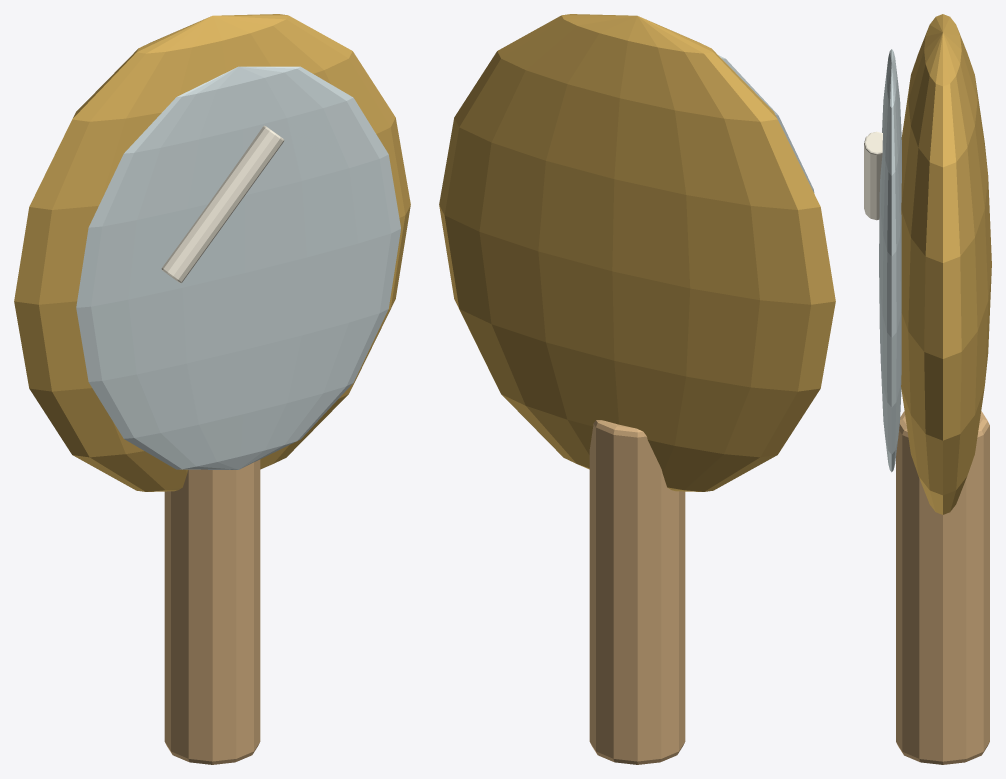
Rendered from P005_hand_mirror.glb.
The picture shows the model from 3 angles, left to right: view 1: azimuth 30°, elevation 25°; view 2: azimuth 150°, elevation 25°; view 3: azimuth 270°, elevation 25°; orthographic projection. The views are drawn at different scales.
Visible parts, largest first — view 1: P005_silver_face_003, P005_mirror_frame_002, P005_handle_001, P005_glint_004; view 2: P005_mirror_frame_002, P005_handle_001; view 3: P005_mirror_frame_002, P005_handle_001, P005_silver_face_003, P005_glint_004.
Boxes of the visible parts, left/top/right/bottom form: P005_silver_face_003: left=76, top=66, right=400, bottom=469; P005_mirror_frame_002: left=14, top=14, right=410, bottom=491; P005_handle_001: left=164, top=459, right=260, bottom=764; P005_glint_004: left=161, top=125, right=284, bottom=282; P005_mirror_frame_002: left=439, top=14, right=835, bottom=491; P005_handle_001: left=589, top=420, right=685, bottom=764; P005_mirror_frame_002: left=901, top=14, right=991, bottom=514; P005_handle_001: left=896, top=411, right=989, bottom=764; P005_silver_face_003: left=879, top=49, right=901, bottom=472; P005_glint_004: left=864, top=131, right=882, bottom=220.
Bounding box in the file's own units: 0.21 × 0.37 × 0.06.
